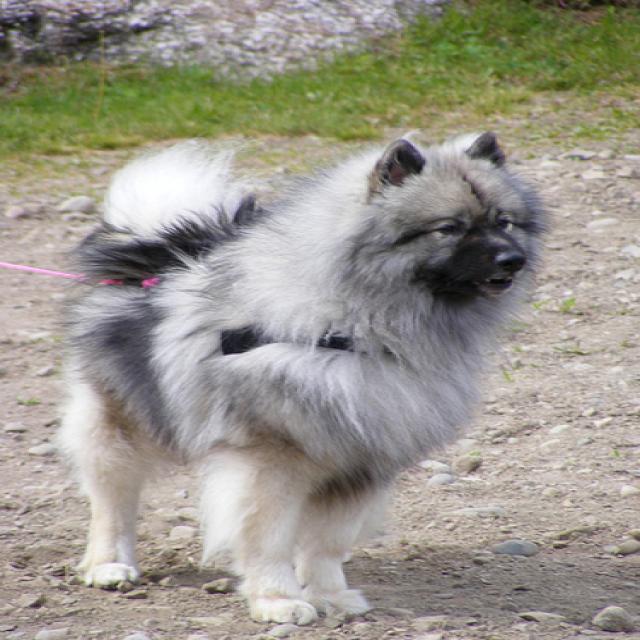dog-keeshond: (46, 123, 568, 628)
